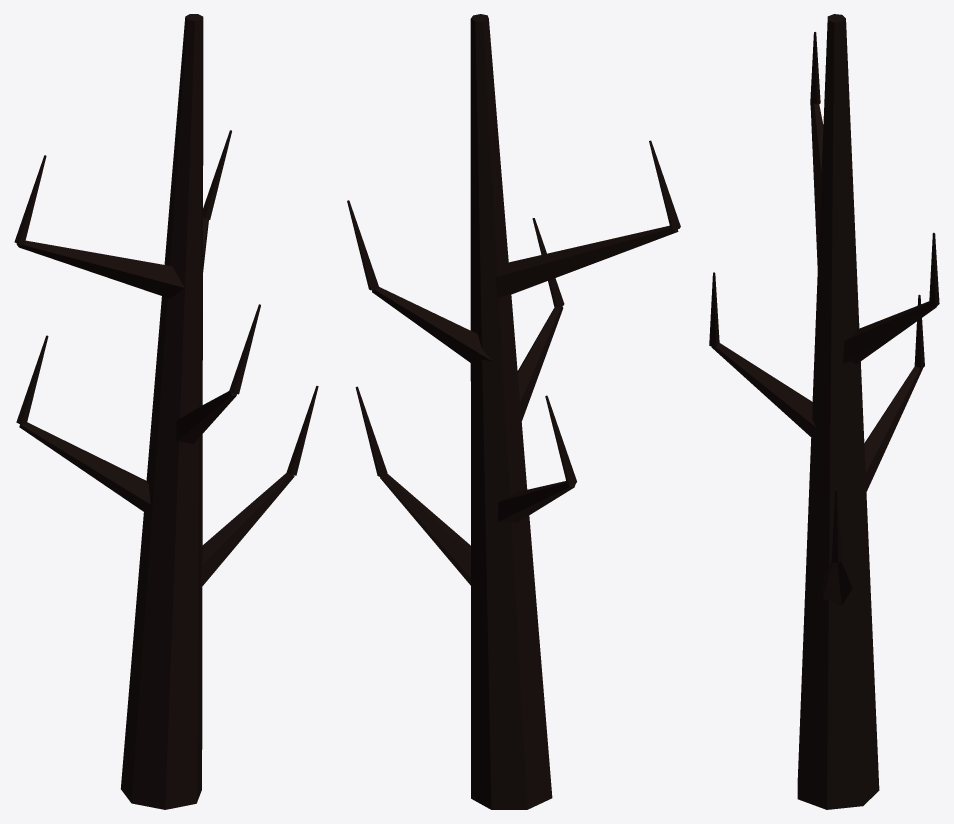
Rendered from Tree_Dead_03.fbx.
The picture shows the model from 3 angles, left to right: view 1: azimuth 30°, elevation 25°; view 2: azimuth 150°, elevation 25°; view 3: azimuth 270°, elevation 25°; orthographic projection. The views are drawn at different scales.
Visible parts, largest first — view 1: Tree_Dead_03_Trunk; view 2: Tree_Dead_03_Trunk; view 3: Tree_Dead_03_Trunk.
Part boxes in pixels (x1=…): Tree_Dead_03_Trunk: x1=14, y1=14, x2=318, y2=809; Tree_Dead_03_Trunk: x1=347, y1=14, x2=680, y2=809; Tree_Dead_03_Trunk: x1=709, y1=14, x2=939, y2=809.
Size of the model in its own units: 2.91 by 6.82 by 1.8.
1 material, 1 textured.
